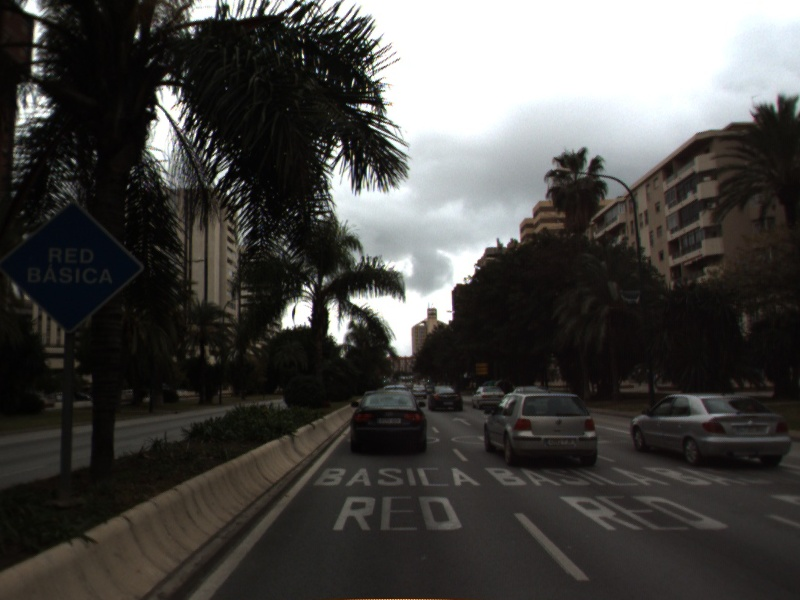STRAIGHT: (450, 414, 474, 428)
